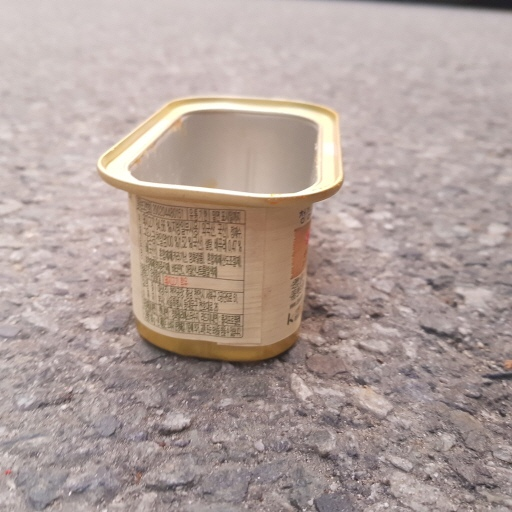Metal_2: (97, 94, 347, 361)
